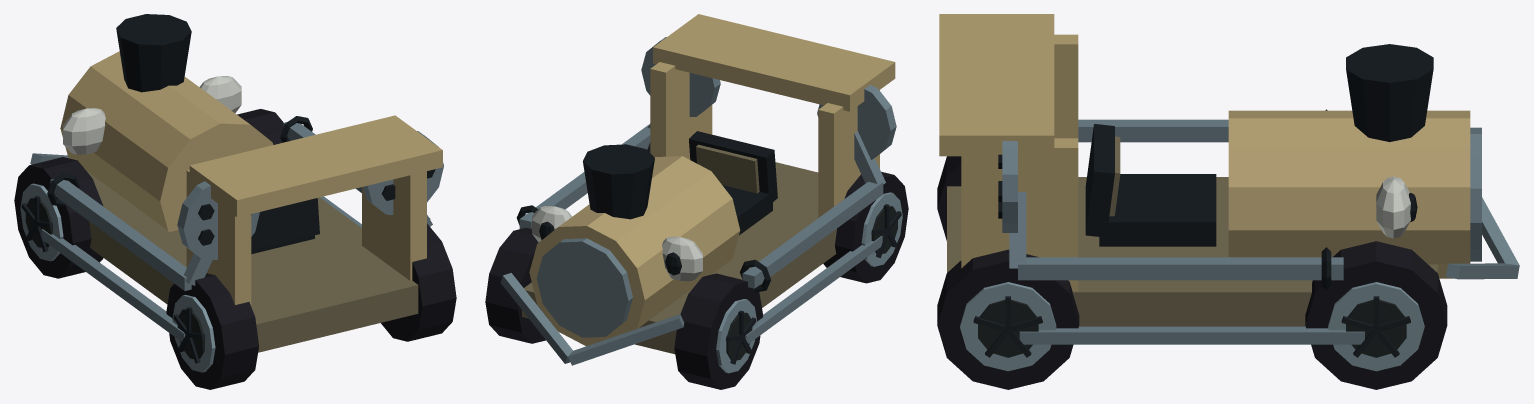
The model's file is kart.glb.
3 renders of one model, left to right at view 1: azimuth 30°, elevation 25°; view 2: azimuth 150°, elevation 25°; view 3: azimuth 270°, elevation 25°, orthographic. The views are drawn at different scales.
Parts seen in each view (by area): view 1: identity-train-locomotive-boiler-and-cowcatcher, wheel-rear-left, wheel-front-left, identity-train-motif-pipes, wheel-rear-right, identity-train-motif-film, identity-train-motif-eyes, identity-train-driver-cockpit, wheel-front-right; view 2: identity-train-locomotive-boiler-and-cowcatcher, wheel-front-left, identity-train-motif-pipes, identity-train-driver-cockpit, wheel-rear-left, wheel-front-right, identity-train-motif-film, identity-train-motif-eyes; view 3: identity-train-locomotive-boiler-and-cowcatcher, wheel-front-right, wheel-rear-right, identity-train-motif-pipes, identity-train-driver-cockpit, identity-train-motif-eyes, identity-train-motif-film, wheel-rear-left.
Part boxes in pixels (x1,y1,x2,y2): identity-train-locomotive-boiler-and-cowcatcher: [30, 14, 442, 352]; wheel-rear-left: [166, 273, 259, 389]; wheel-front-left: [14, 157, 103, 278]; identity-train-motif-pipes: [47, 116, 432, 290]; wheel-rear-right: [381, 223, 456, 341]; identity-train-motif-film: [177, 131, 443, 259]; identity-train-motif-eyes: [63, 76, 241, 154]; identity-train-driver-cockpit: [251, 198, 319, 254]; wheel-front-right: [237, 109, 289, 144]; identity-train-locomotive-boiler-and-cowcatcher: [500, 14, 895, 365]; wheel-front-left: [674, 273, 762, 389]; identity-train-motif-pipes: [516, 123, 885, 292]; identity-train-driver-cockpit: [689, 131, 777, 235]; wheel-rear-left: [823, 171, 908, 283]; wheel-front-right: [485, 227, 545, 343]; identity-train-motif-film: [641, 37, 896, 159]; identity-train-motif-eyes: [532, 206, 702, 281]; identity-train-locomotive-boiler-and-cowcatcher: [939, 14, 1519, 344]; wheel-front-right: [1305, 241, 1447, 389]; wheel-rear-right: [937, 249, 1079, 389]; identity-train-motif-pipes: [1009, 109, 1343, 289]; identity-train-driver-cockpit: [1085, 124, 1216, 246]; identity-train-motif-eyes: [1376, 176, 1417, 238]; identity-train-motif-film: [998, 141, 1017, 232]; wheel-rear-left: [937, 156, 961, 240].
Size of the model in its own units: 1.94 by 1.49 by 3.04.
